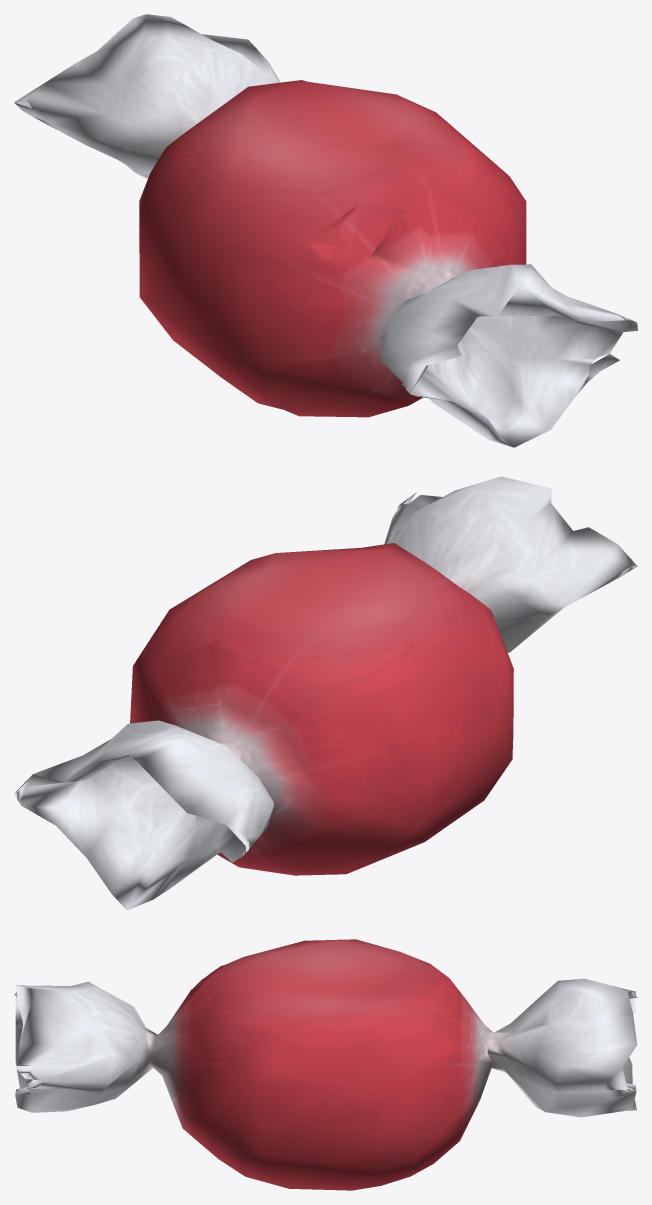
File: Food_WrappedCandy.fbx
The picture shows the model from 3 angles, top to bottom: view 1: azimuth 30°, elevation 25°; view 2: azimuth 150°, elevation 25°; view 3: azimuth 270°, elevation 25°; orthographic projection. The views are drawn at different scales.
Parts seen in each view (by area): view 1: Food_WrappedCandy; view 2: Food_WrappedCandy; view 3: Food_WrappedCandy.
Part boxes in pixels (x1,y1,x2,y2): Food_WrappedCandy: [14, 14, 637, 447]; Food_WrappedCandy: [14, 476, 637, 910]; Food_WrappedCandy: [14, 939, 637, 1190].
Bounding box in the file's own units: 0.1218 × 0.0895 × 0.26.
Materials: 1 (1 with a texture image).
